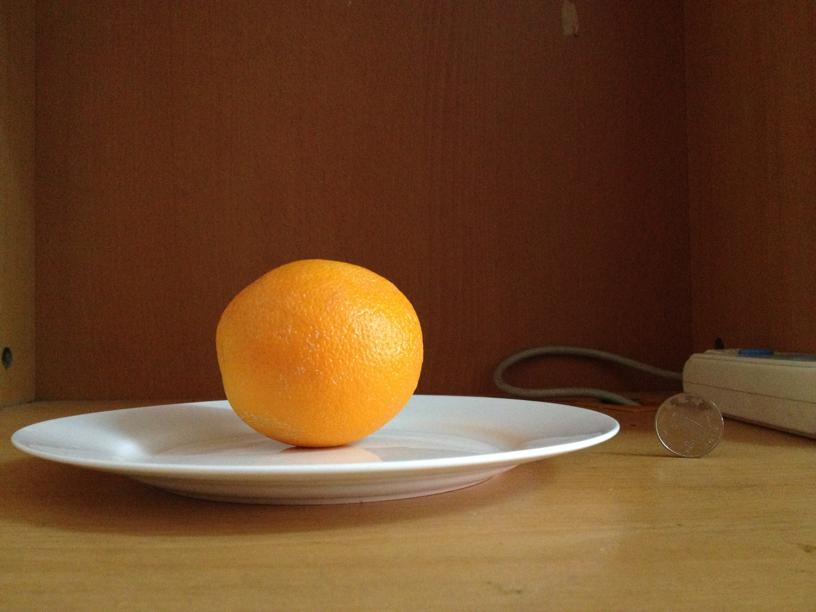coin: (656, 391, 724, 458)
orange: (212, 261, 421, 446)
